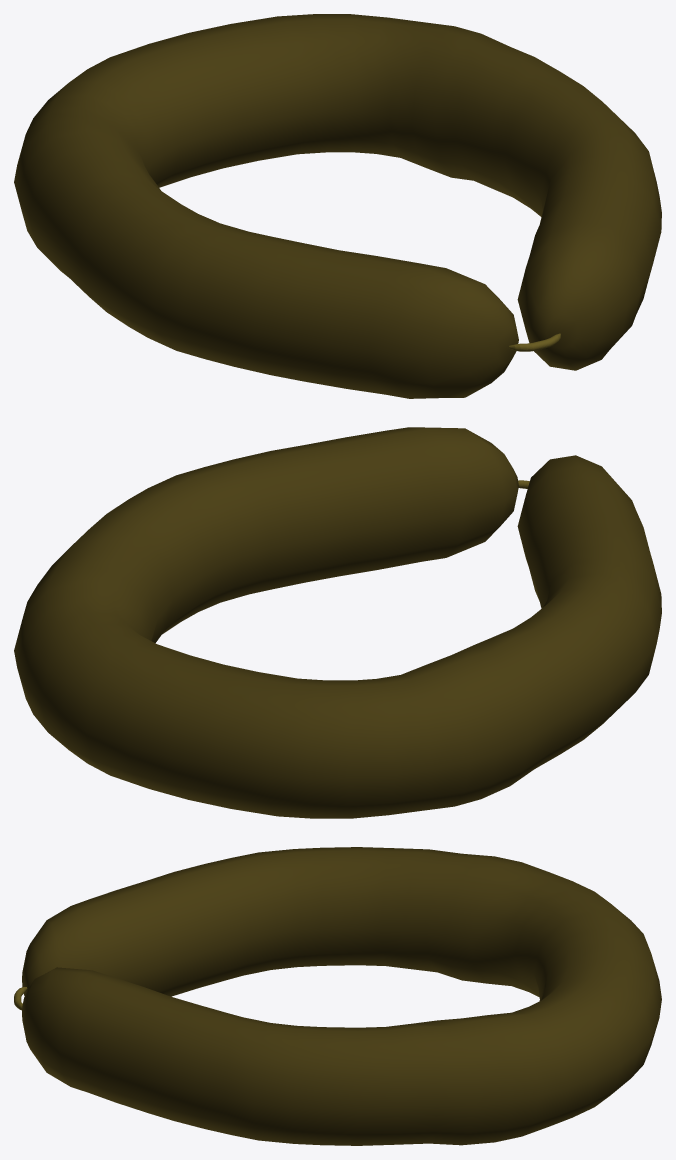
File: poepworst.fbx
3 renders of one model, top to bottom at view 1: azimuth 30°, elevation 25°; view 2: azimuth 150°, elevation 25°; view 3: azimuth 270°, elevation 25°, orthographic. The views are drawn at different scales.
Parts seen in each view (by area): view 1: Torus; view 2: Torus; view 3: Torus.
Boxes of the visible parts, bbox=[...] form: Torus: bbox=[14, 14, 661, 398]; Torus: bbox=[14, 427, 661, 818]; Torus: bbox=[22, 847, 661, 1145].
Bounding box in the file's own units: 632 × 156 × 768.
